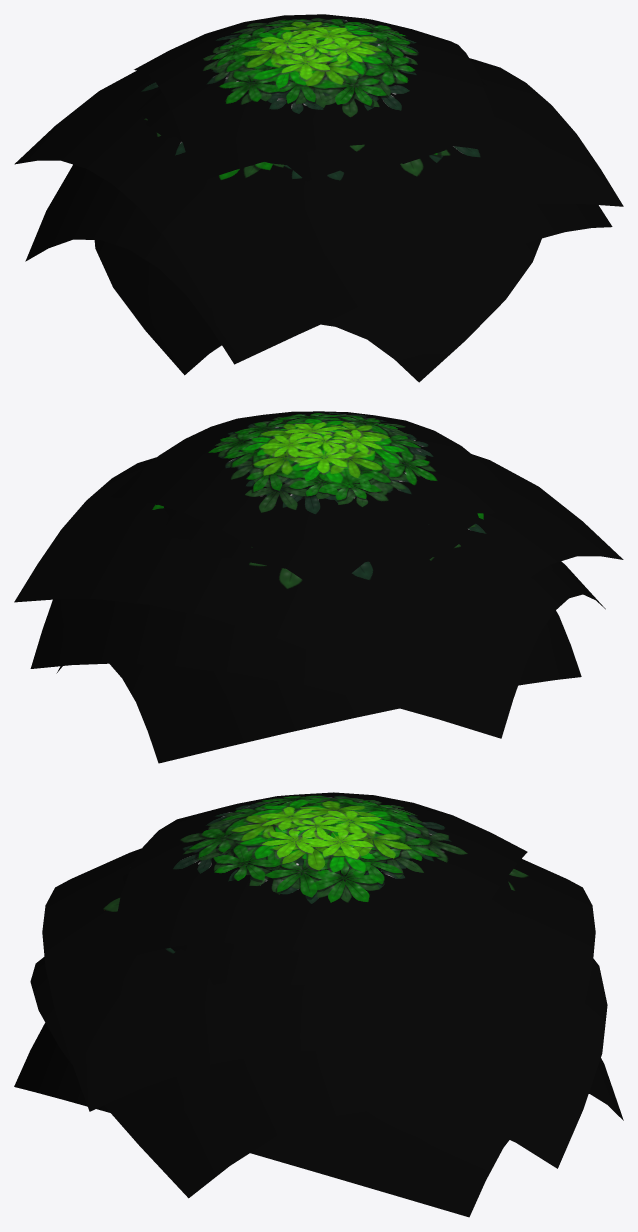
Rendered from arbusto_foliage.fbx.
3 views of the same model, one above another, from view 1: azimuth 30°, elevation 25°; view 2: azimuth 150°, elevation 25°; view 3: azimuth 270°, elevation 25° (orthographic). The views are drawn at different scales.
Parts seen in each view (by area): view 1: Arbusto_GEO; view 2: Arbusto_GEO; view 3: Arbusto_GEO.
Boxes of the visible parts, box(x1,y1,x2,y2) form: Arbusto_GEO: box(14, 14, 623, 382); Arbusto_GEO: box(14, 411, 623, 763); Arbusto_GEO: box(14, 792, 623, 1217).
Size of the model in its own units: 2.16 by 1.02 by 2.05.
1 material, 1 textured.
